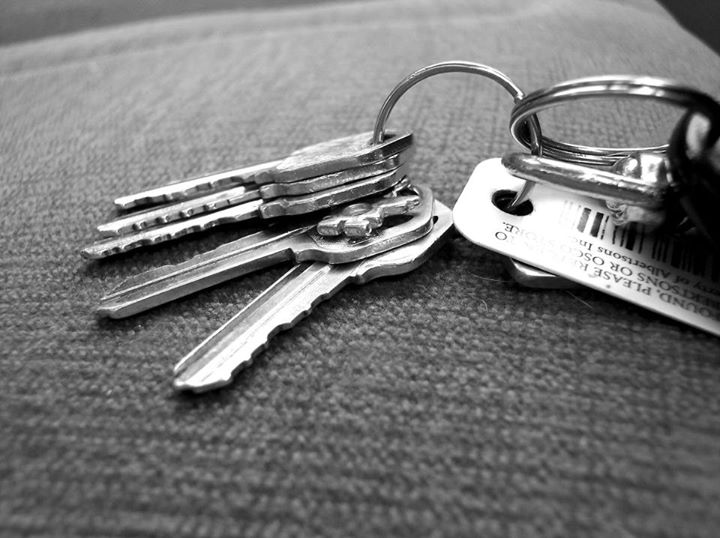keys: (67, 116, 463, 424)
